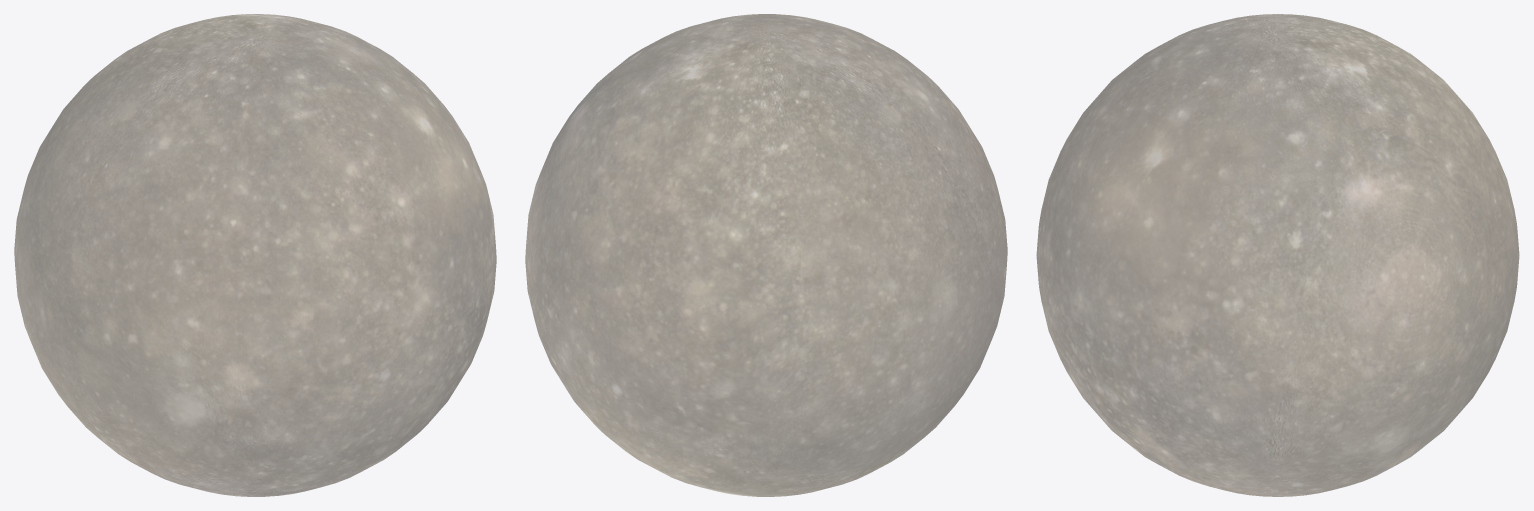
The model's file is tiby_planet.fbx.
The picture shows the model from 3 angles, left to right: view 1: azimuth 30°, elevation 25°; view 2: azimuth 150°, elevation 25°; view 3: azimuth 270°, elevation 25°; orthographic projection.
Parts seen in each view (by area): view 1: Sphere01; view 2: Sphere01; view 3: Sphere01.
Part boxes in pixels (left/top/right/bottom): Sphere01: left=14, top=14, right=496, bottom=496; Sphere01: left=525, top=14, right=1007, bottom=496; Sphere01: left=1036, top=14, right=1519, bottom=496.
Size of the model in its own units: 254 by 254 by 254.
